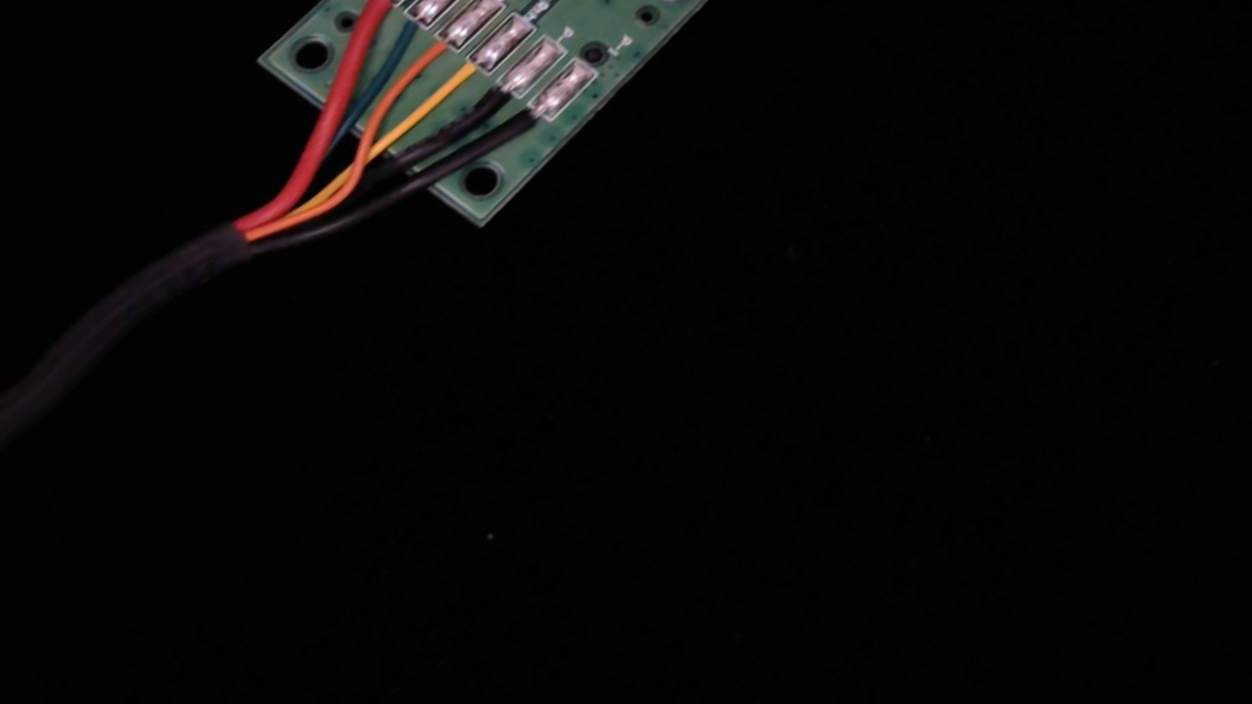Black: (454, 68, 535, 135)
Black1: (483, 91, 566, 161)
Green: (366, 0, 443, 61)
Orange: (392, 24, 472, 89)
Red: (323, 0, 409, 49)
Yellow: (421, 44, 502, 110)
